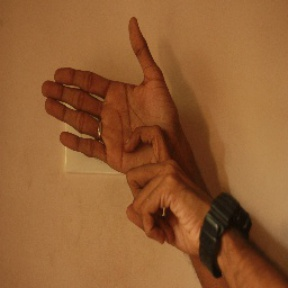R: (42, 15, 199, 222)
